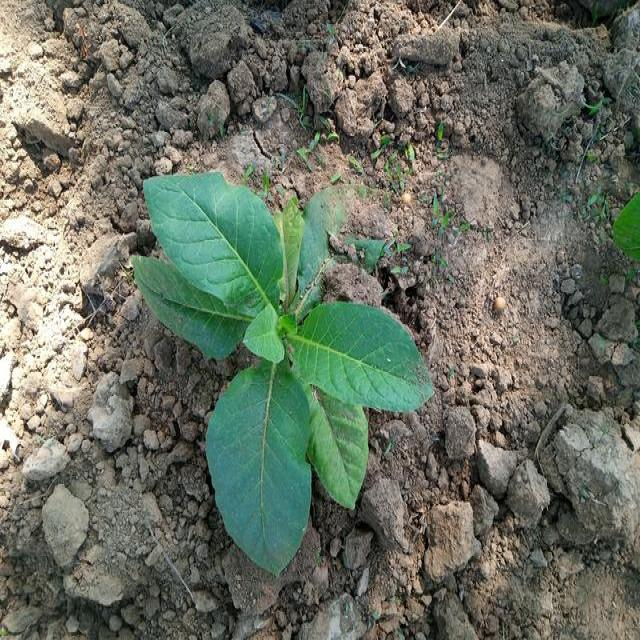crop: (130, 175, 422, 575)
